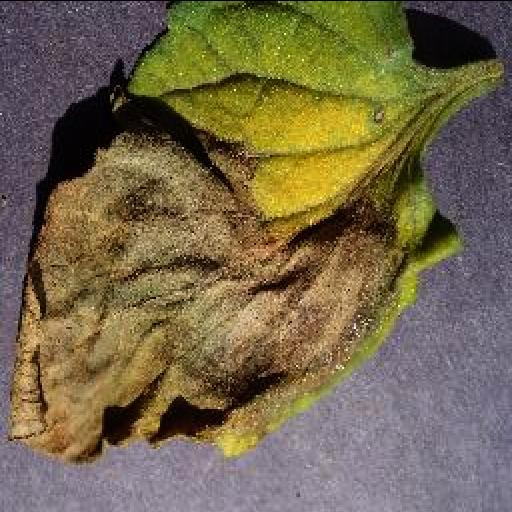disease_tomato: (0, 0, 458, 462)
